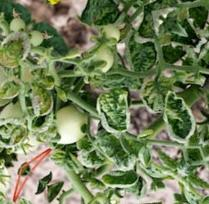Tomato leaf yellow virus: (82, 78, 148, 142), (145, 87, 208, 149), (54, 120, 114, 178), (83, 127, 138, 176), (132, 74, 180, 120), (2, 25, 42, 75)
